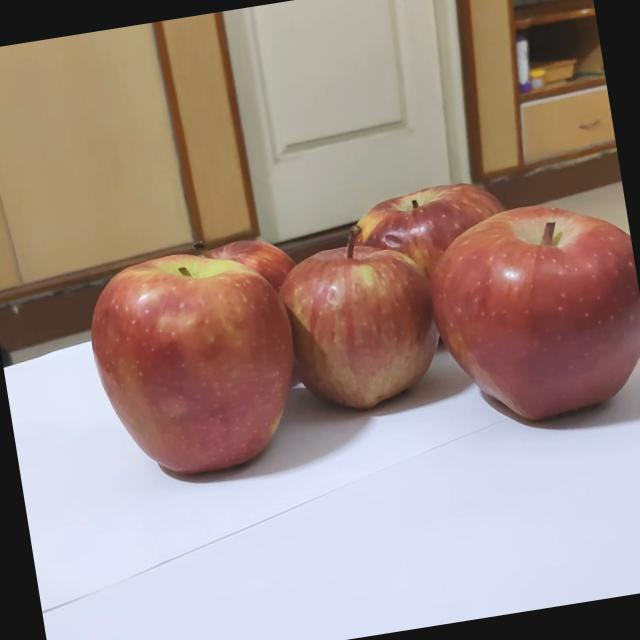apple: (389, 201, 640, 482), (328, 168, 550, 384), (52, 258, 266, 478), (234, 245, 424, 435), (153, 226, 314, 383)
